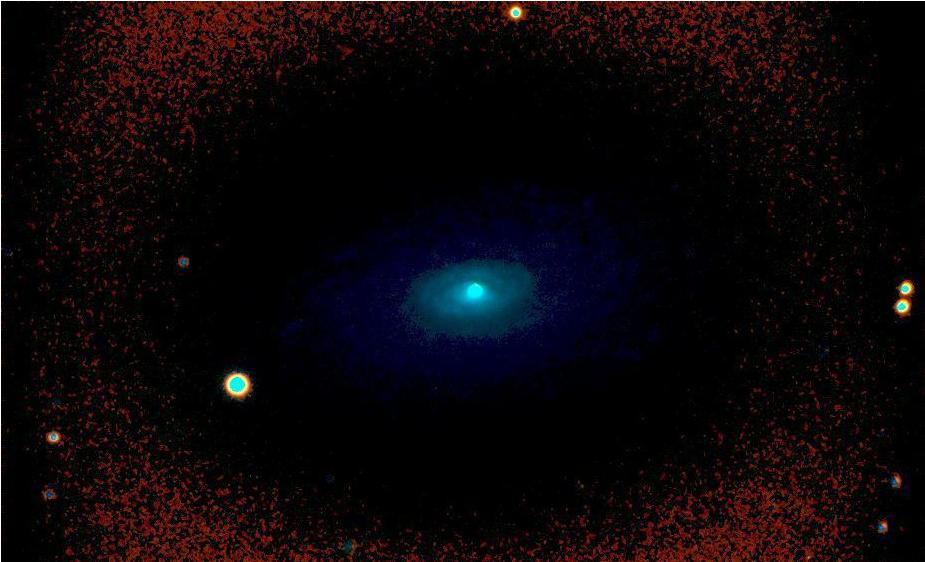star: (430, 248, 460, 278)
